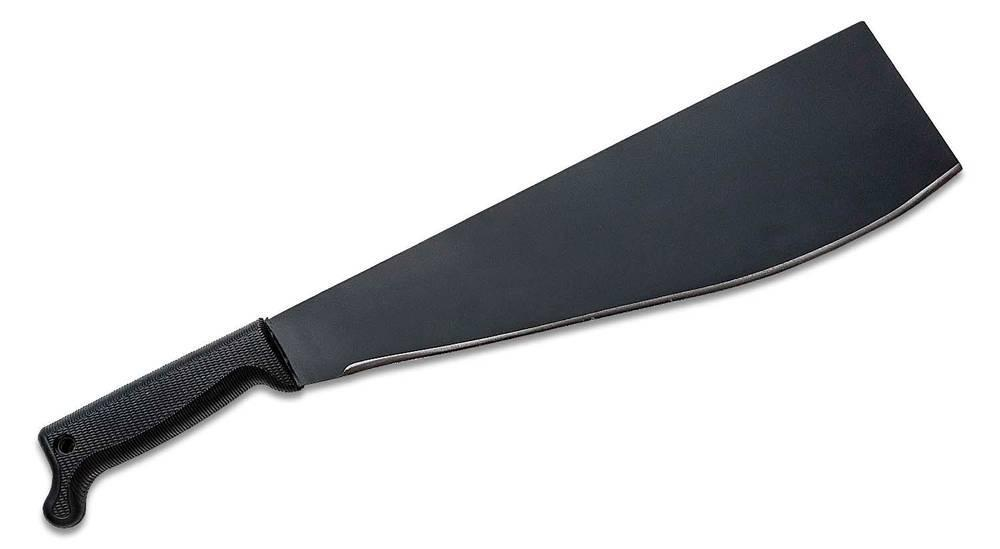facao: (22, 18, 954, 549)
